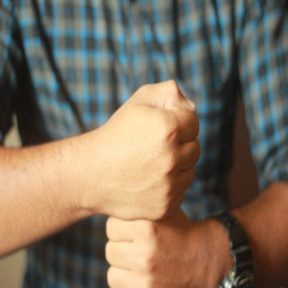G: (94, 73, 205, 288)
